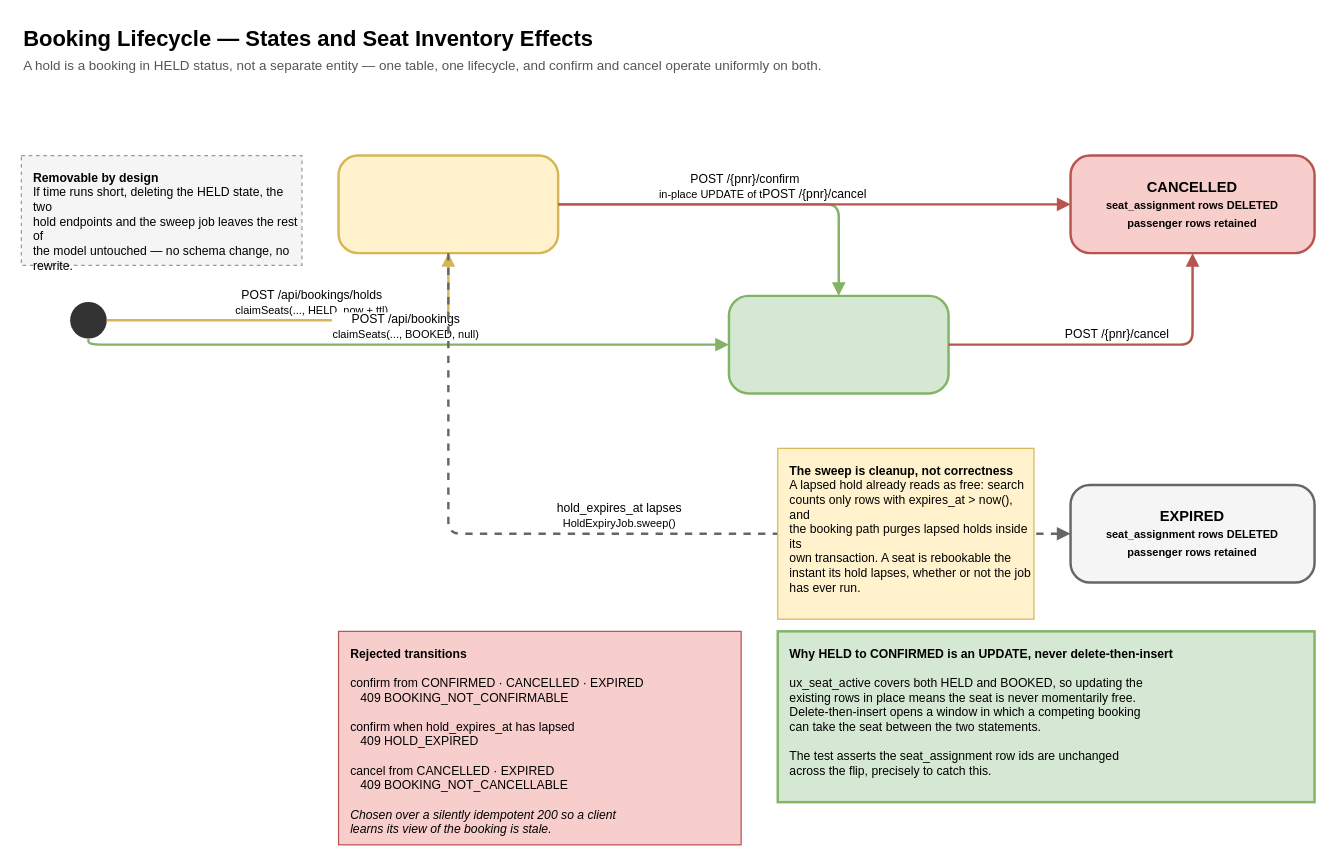
Image size: 1337x866. Some labels were removed from this diagram. Here are the shapes that lost their labels. From the top down, the centre of each, then its label:
At pixel 448 204: "HELD hold_expires_at set seats status = HELD".
At pixel 838 344: "CONFIRMED hold_expires_at = NULL seats status = BOOKED".
